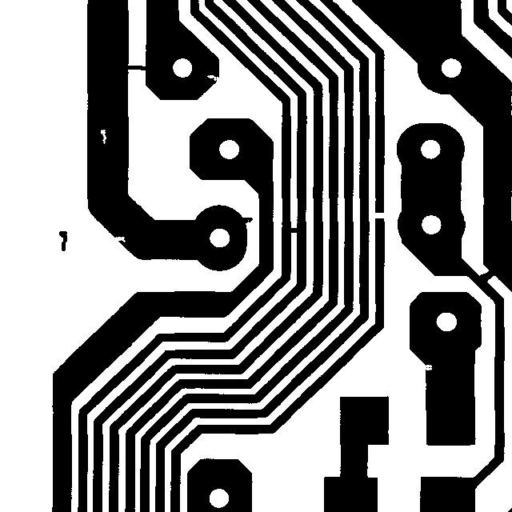copper: (51, 223, 74, 258)
mousebite: (199, 67, 229, 88), (106, 229, 133, 250), (413, 357, 439, 378)
open: (366, 204, 398, 226)
pin-hole: (93, 122, 114, 151)
short: (470, 261, 508, 291), (115, 58, 157, 78), (282, 220, 310, 240)
spur: (233, 210, 260, 230)
